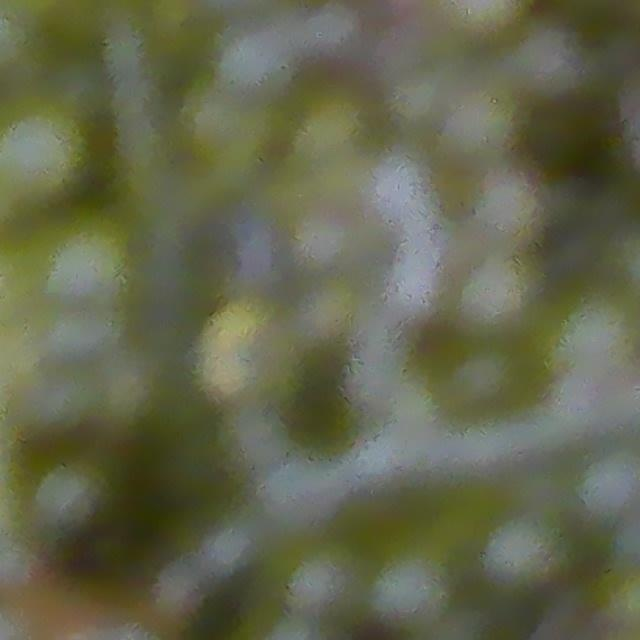SeaGrape: (0, 87, 92, 208), (32, 208, 138, 309), (364, 528, 459, 629), (504, 20, 593, 109), (553, 288, 640, 378), (453, 253, 541, 341), (481, 510, 567, 596), (284, 534, 368, 619), (33, 454, 114, 533), (214, 23, 295, 102), (577, 445, 640, 522)
